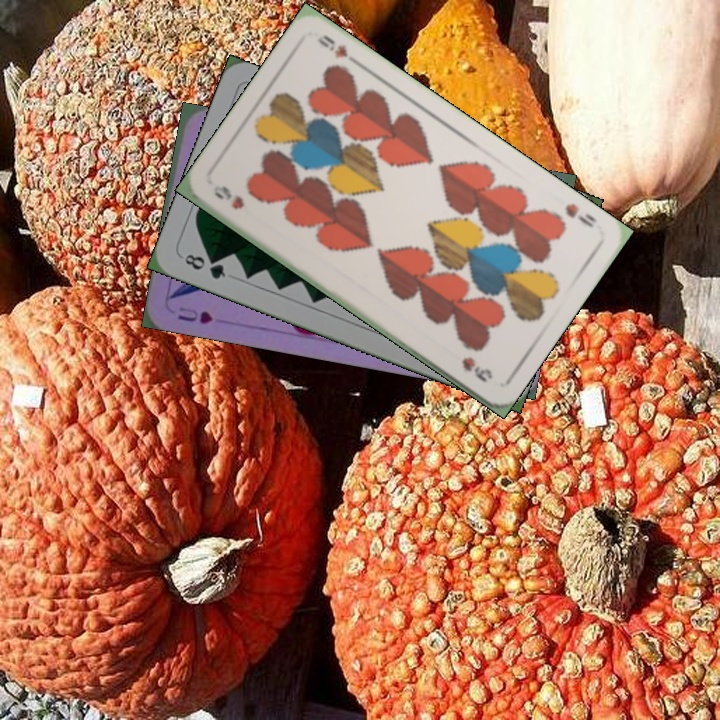G8: (180, 250, 229, 282)
H9: (561, 199, 599, 231), (209, 181, 247, 212)
HU: (174, 303, 215, 327)
